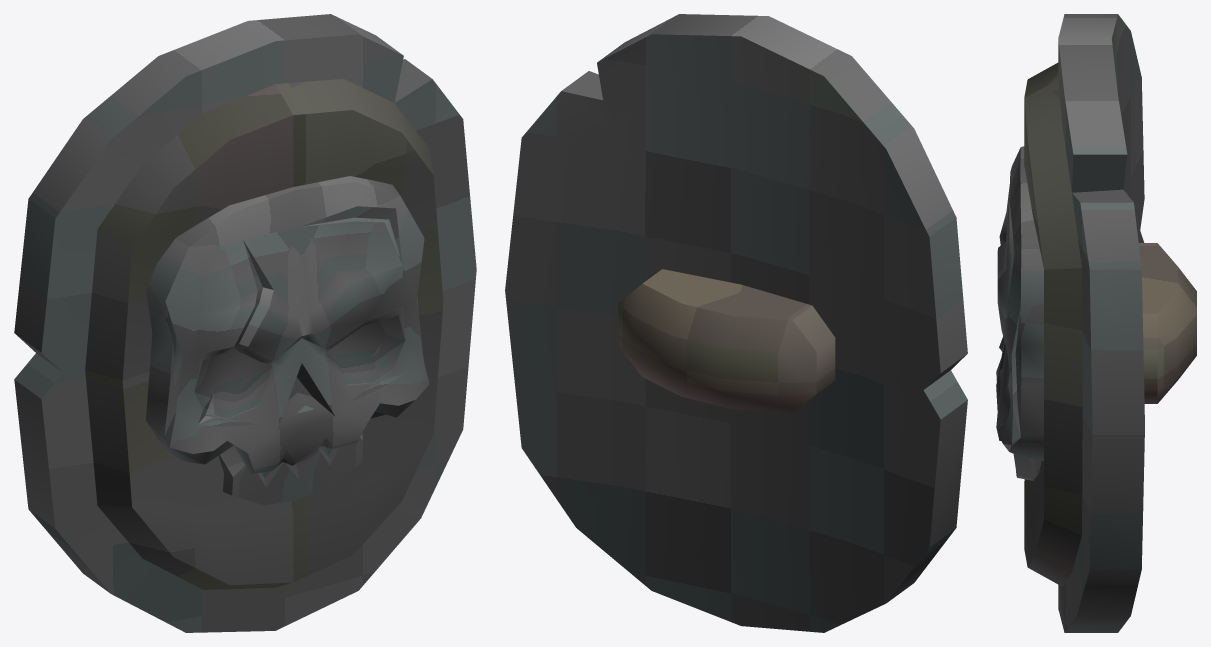
Rendered from escudo.glb.
3 renders of one model, left to right at view 1: azimuth 30°, elevation 25°; view 2: azimuth 150°, elevation 25°; view 3: azimuth 270°, elevation 25°, orthographic. The views are drawn at different scales.
Visible parts, largest first — view 1: Skeleton_Shield_Large_A; view 2: Skeleton_Shield_Large_A; view 3: Skeleton_Shield_Large_A.
Boxes of the visible parts, x1,y1,x2,y2 form: Skeleton_Shield_Large_A: [14, 14, 476, 632]; Skeleton_Shield_Large_A: [505, 14, 967, 632]; Skeleton_Shield_Large_A: [996, 14, 1196, 632].
Size of the model in its own units: 0.8771 by 1.13 by 0.3625.
Materials: 1 (1 with a texture image).
